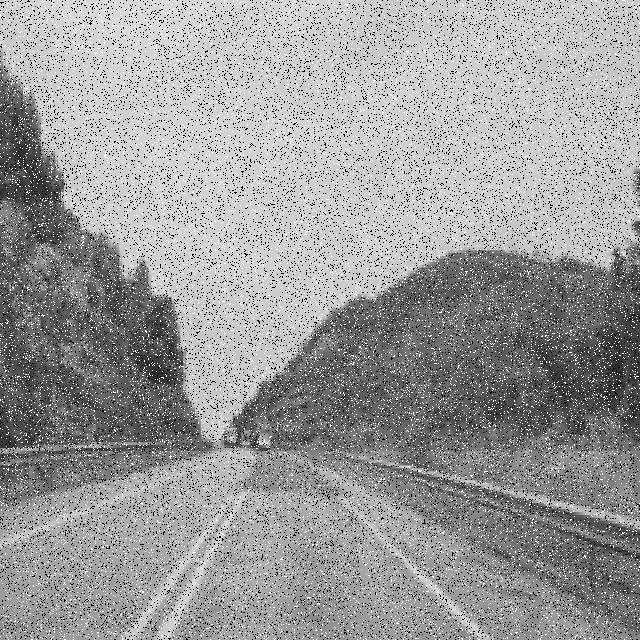clear-road: (0, 451, 640, 640)
